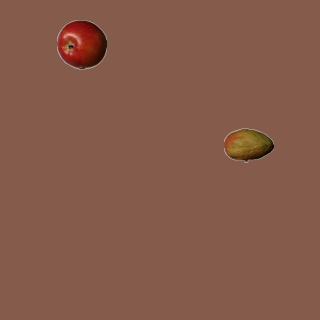Apple Braeburn: (56, 19, 106, 69)
Papaya: (223, 120, 273, 170)
